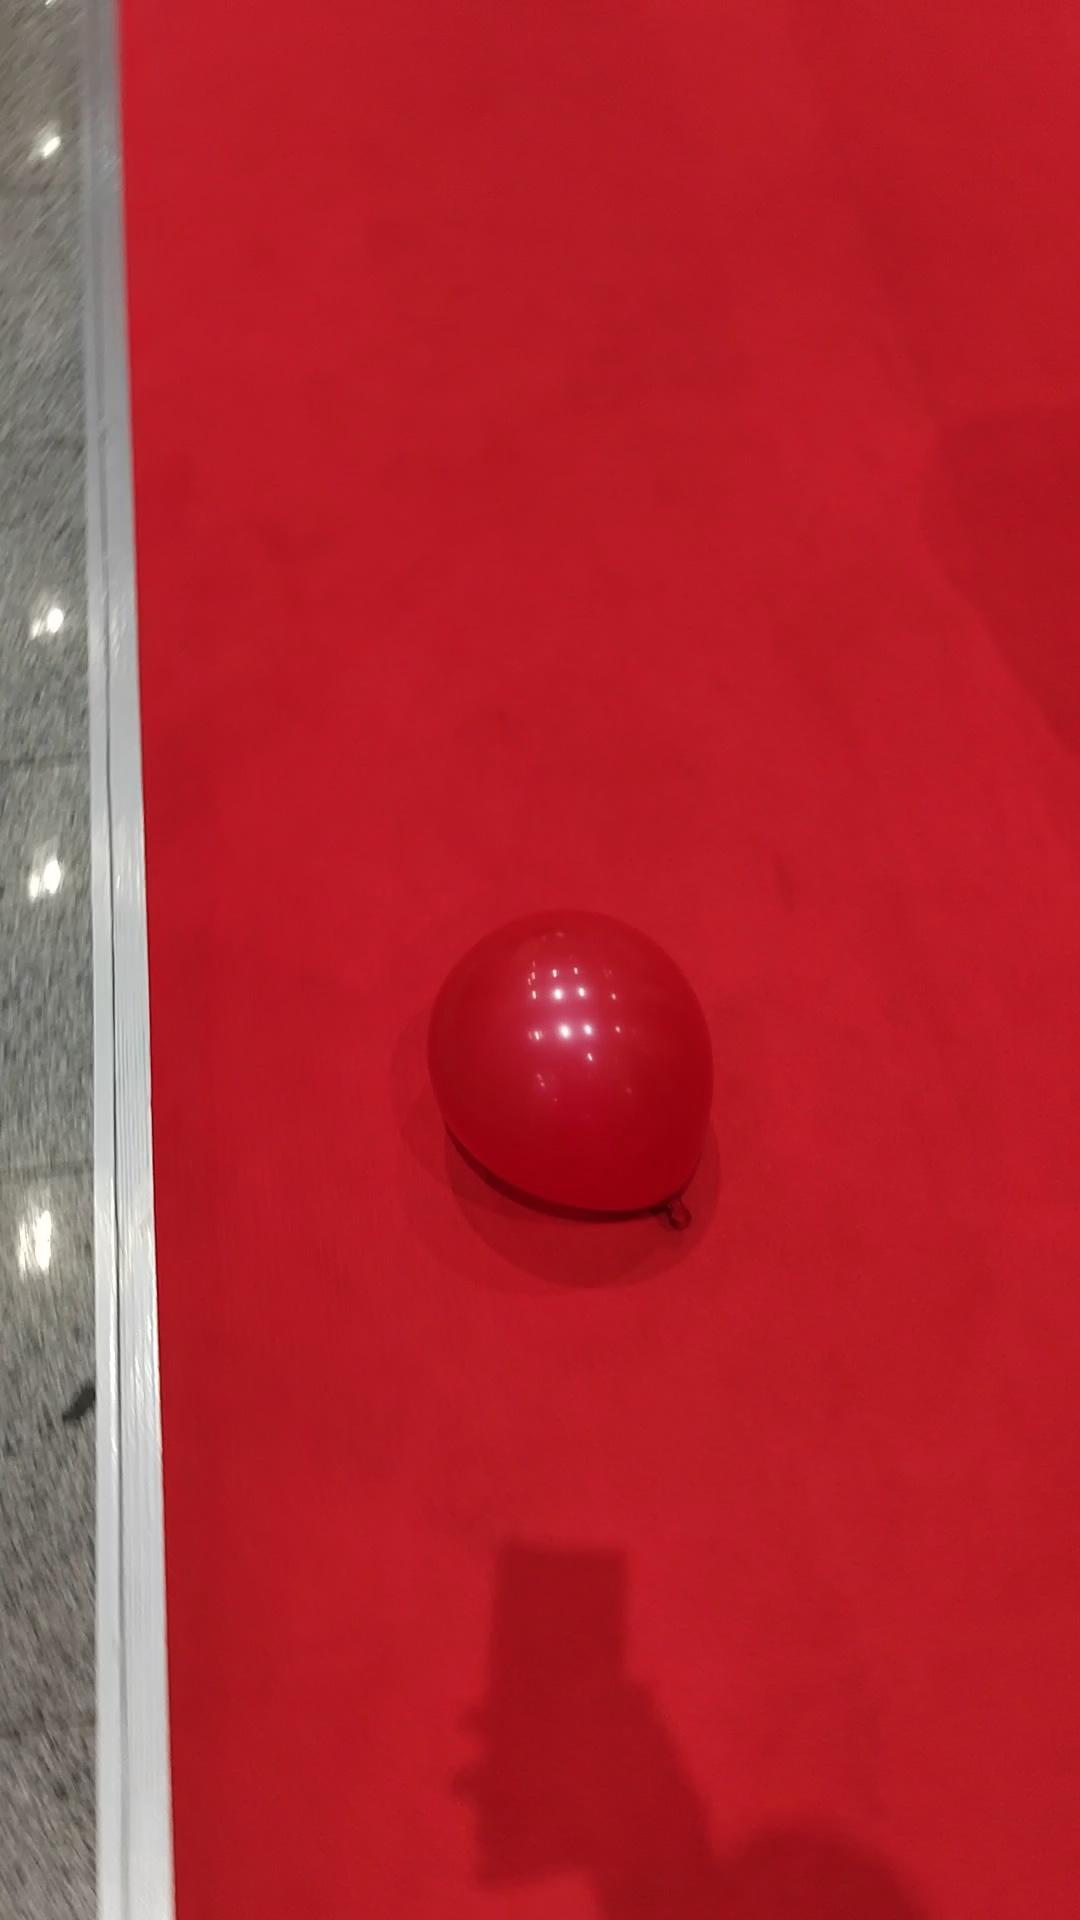red: (427, 905, 715, 1221)
